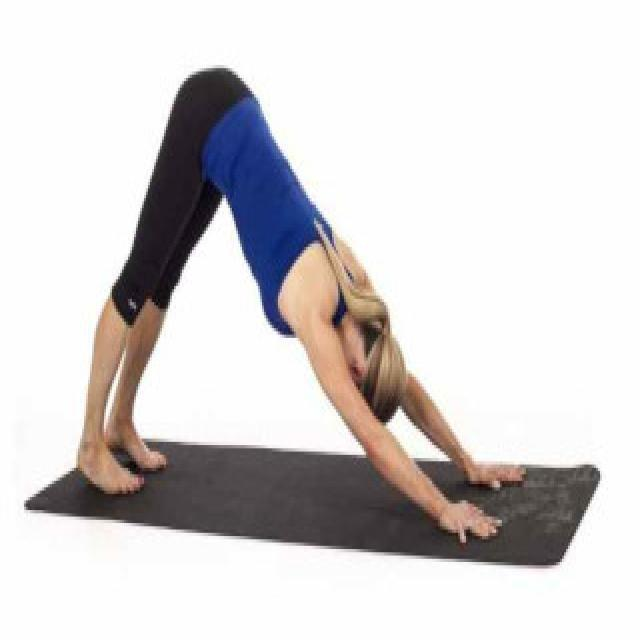yoga-pose downward: (78, 69, 524, 539)
